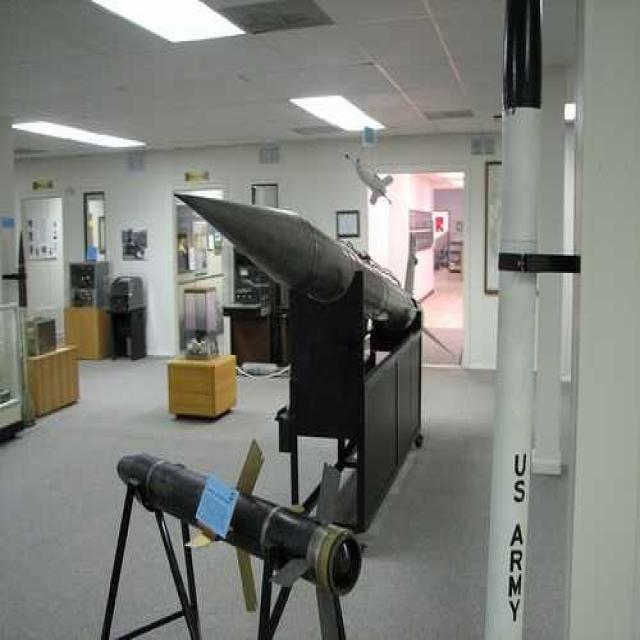missile: (176, 181, 456, 354), (118, 433, 380, 602)
